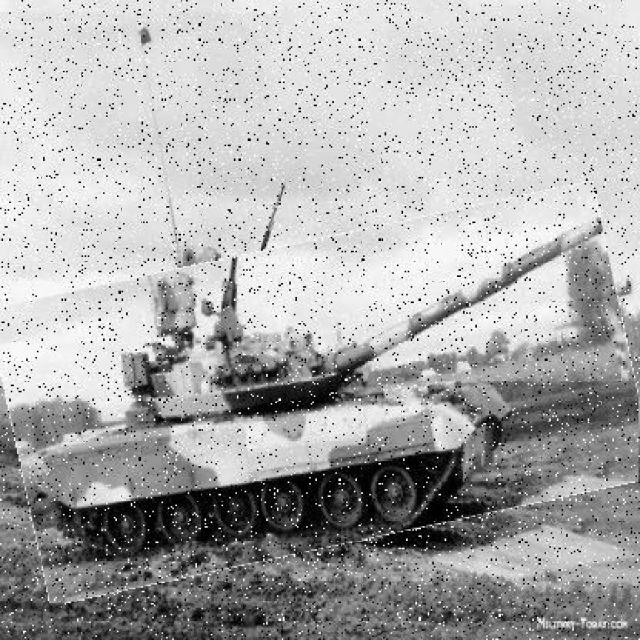Tank: (1, 211, 639, 576)
